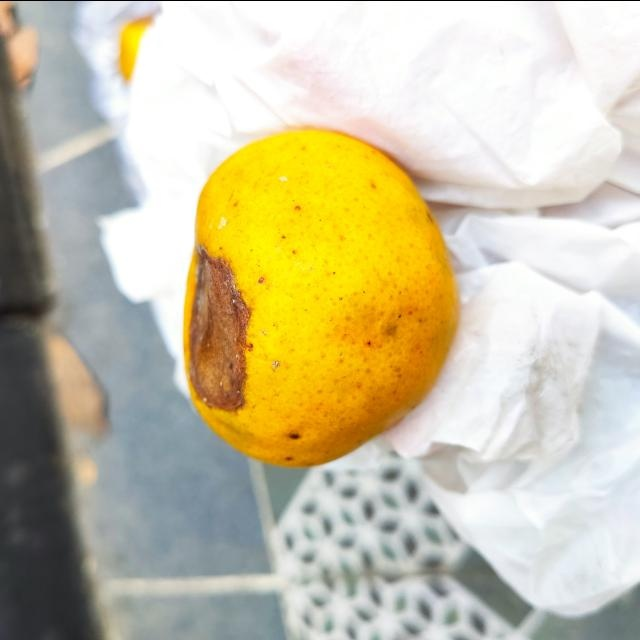agrume: (183, 124, 461, 468)
